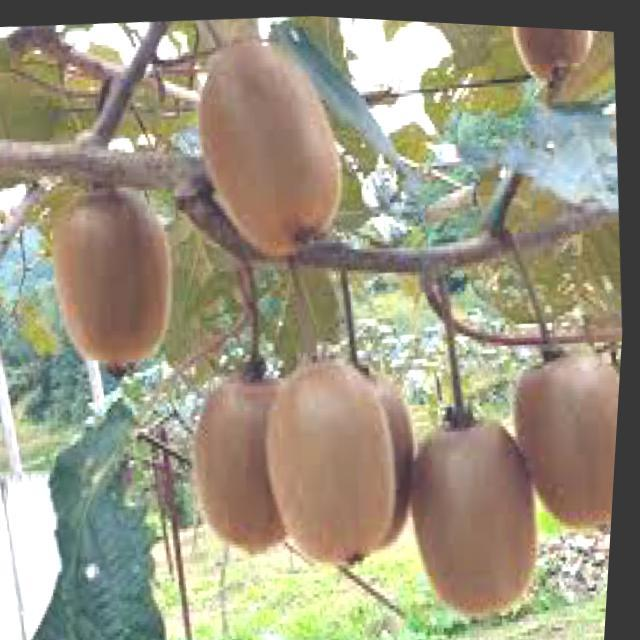kiwi: (183, 24, 357, 267), (254, 341, 410, 571), (401, 390, 552, 616), (40, 173, 188, 388), (182, 346, 304, 555), (506, 327, 626, 527)
